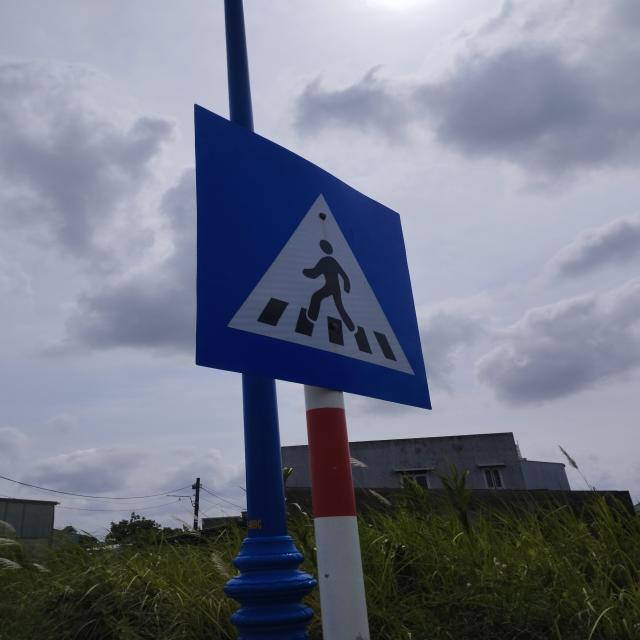Giao_Nhau_Duong_Uu_Tien: (195, 105, 432, 409)
